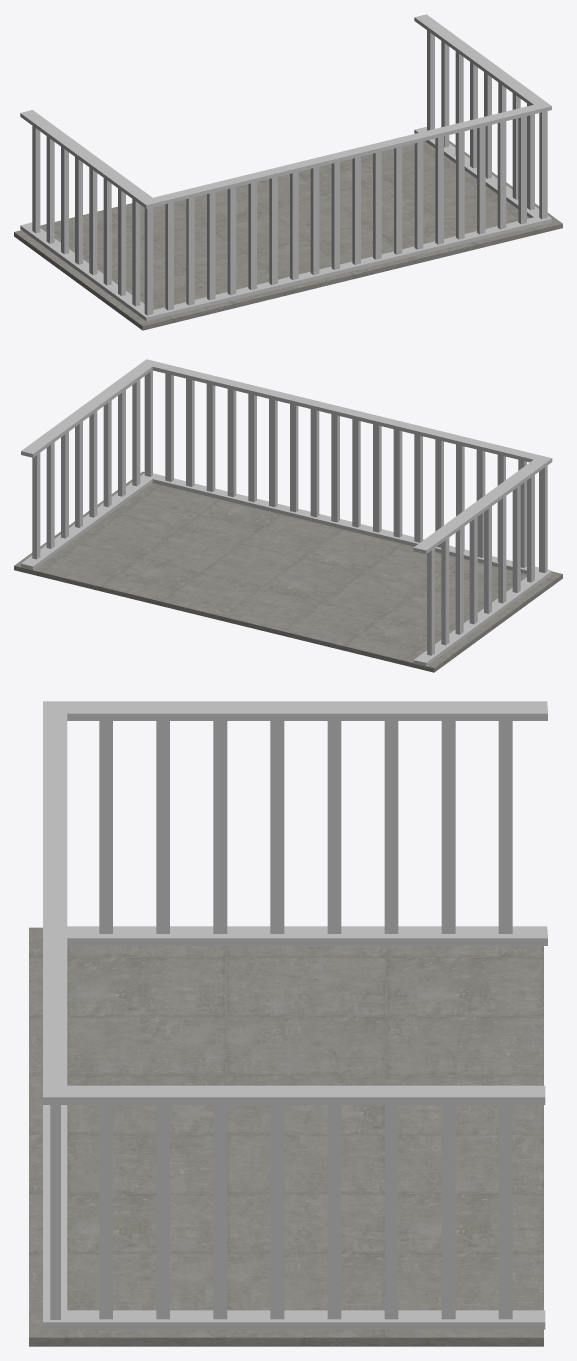
File: Terrace.FBX
The picture shows the model from 3 angles, top to bottom: view 1: azimuth 30°, elevation 25°; view 2: azimuth 150°, elevation 25°; view 3: azimuth 270°, elevation 25°; orthographic projection. The views are drawn at different scales.
Visible parts, largest first — view 1: terrace; view 2: terrace; view 3: terrace.
Part boxes in pixels (x1,y1,x2,y2): terrace: (14, 14, 562, 330); terrace: (14, 359, 562, 672); terrace: (29, 701, 547, 1346).
Bounding box in the file's own units: 412 × 113 × 220.
